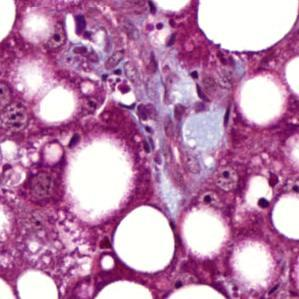steatosis: (113, 208, 181, 273)
